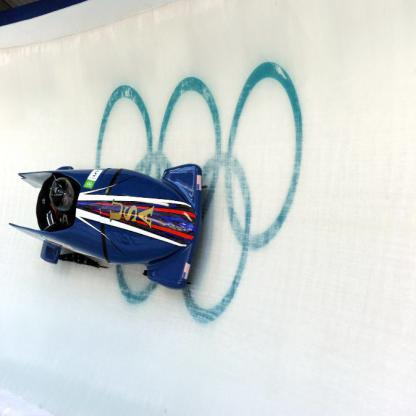Car: (18, 150, 217, 296)
